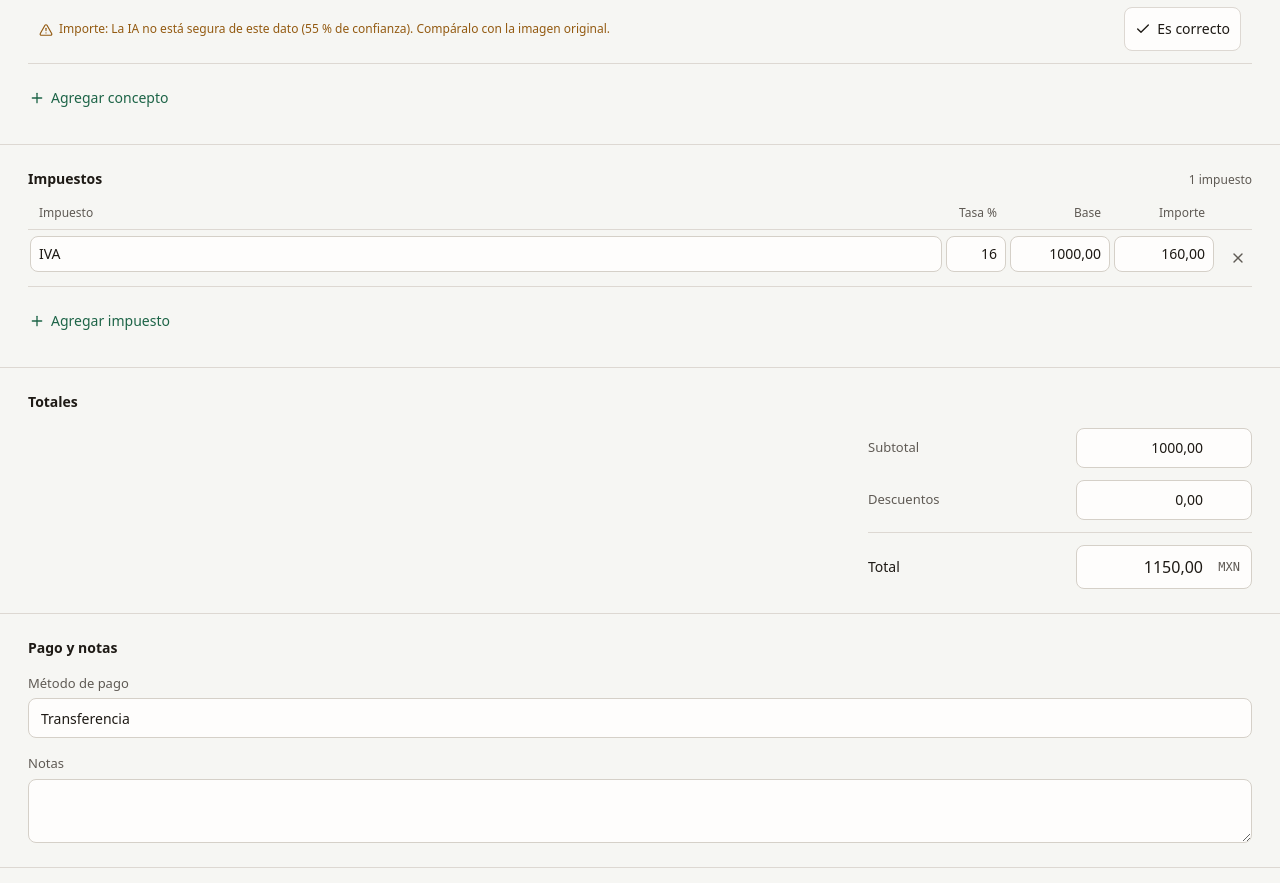
Scenario: ReviewPage › line items, taxes and totals › flags text that is not a number and keeps the last valid amount
(page scrolled)
In the field labelled "Subtotal": x=1164, y=448 x1=1076 y1=428 x2=1252 y2=468, type " mil"
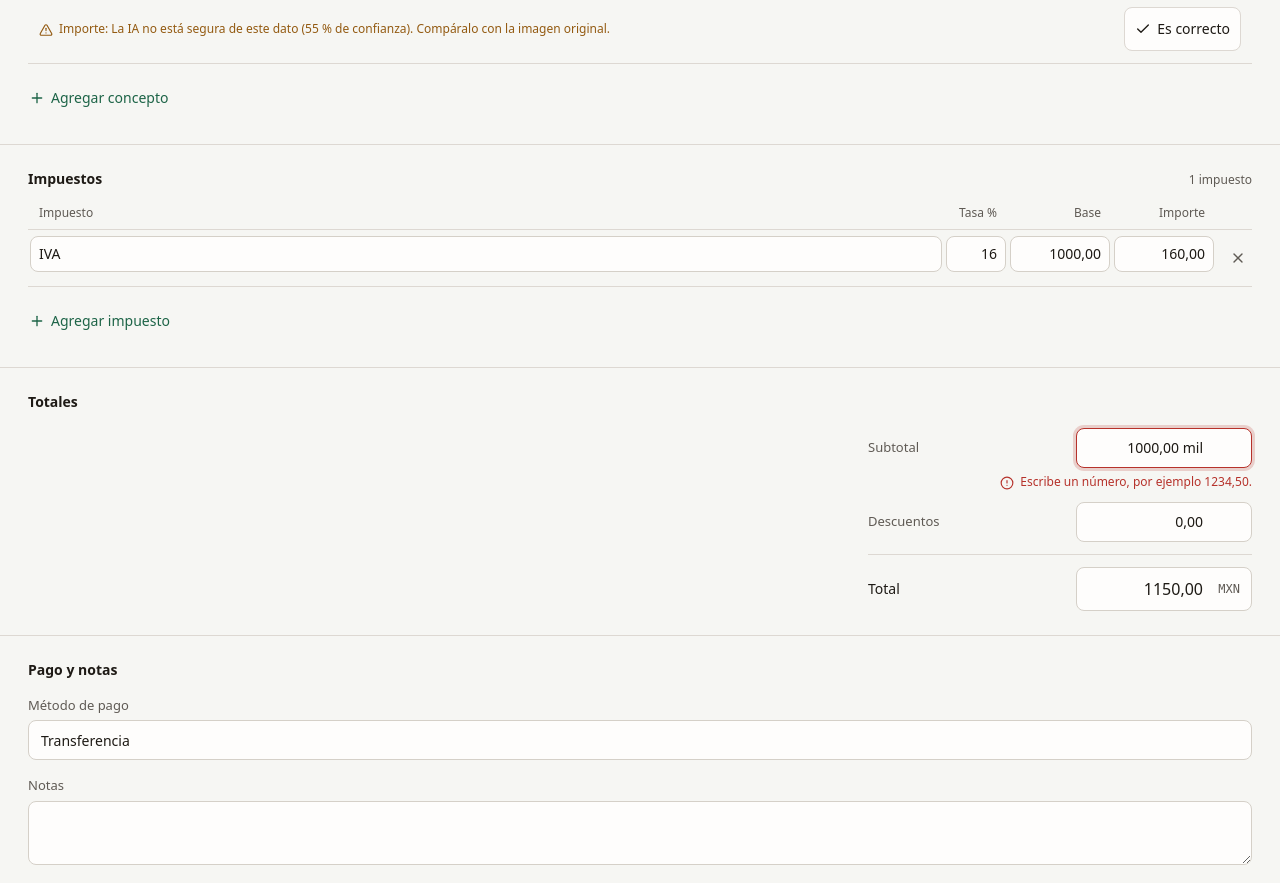
Check: the field labelled "Subtotal" is marked as invalid, box x1=1076 y1=428 x2=1252 y2=468
